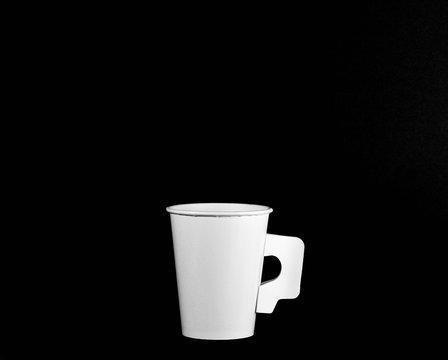cup-disposable: (165, 198, 275, 343)
